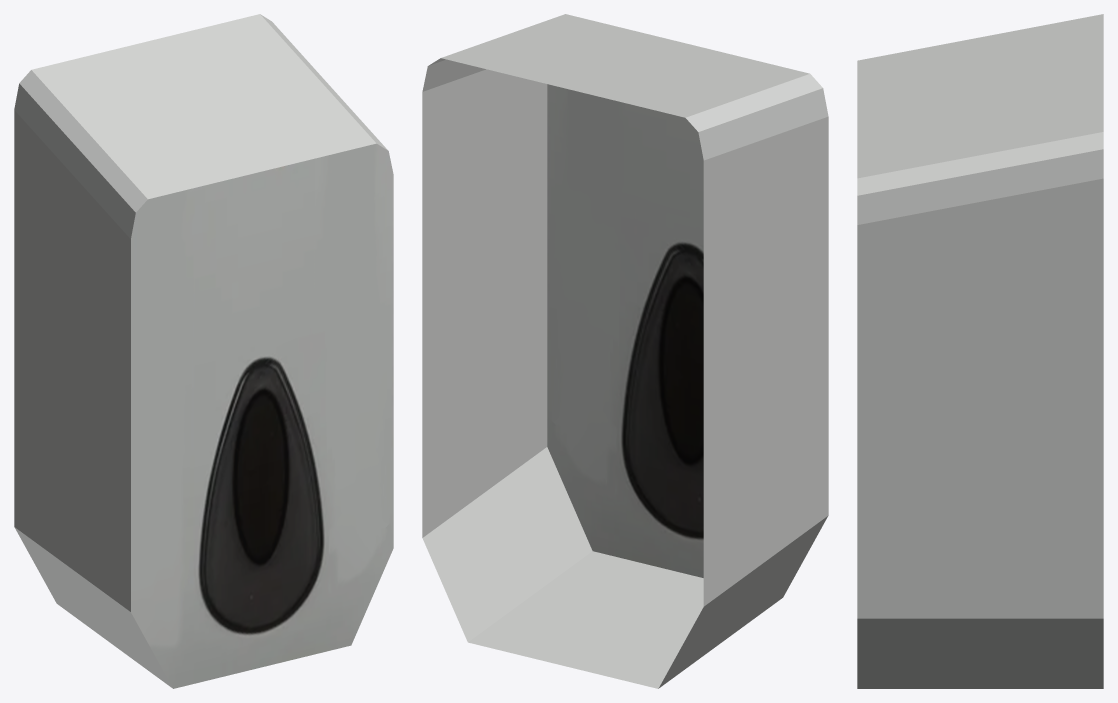
The model's file is HandSantiser.fbx.
3 views of the same model, side by side, from view 1: azimuth 30°, elevation 25°; view 2: azimuth 150°, elevation 25°; view 3: azimuth 270°, elevation 25° (orthographic). The views are drawn at different scales.
Parts seen in each view (by area): view 1: Plane; view 2: Plane; view 3: Plane.
Part boxes in pixels (x1=…): Plane: x1=14, y1=14, x2=393, y2=688; Plane: x1=422, y1=14, x2=828, y2=688; Plane: x1=857, y1=14, x2=1103, y2=688.
Bounding box in the file's own units: 102 × 200 × 78.31.
